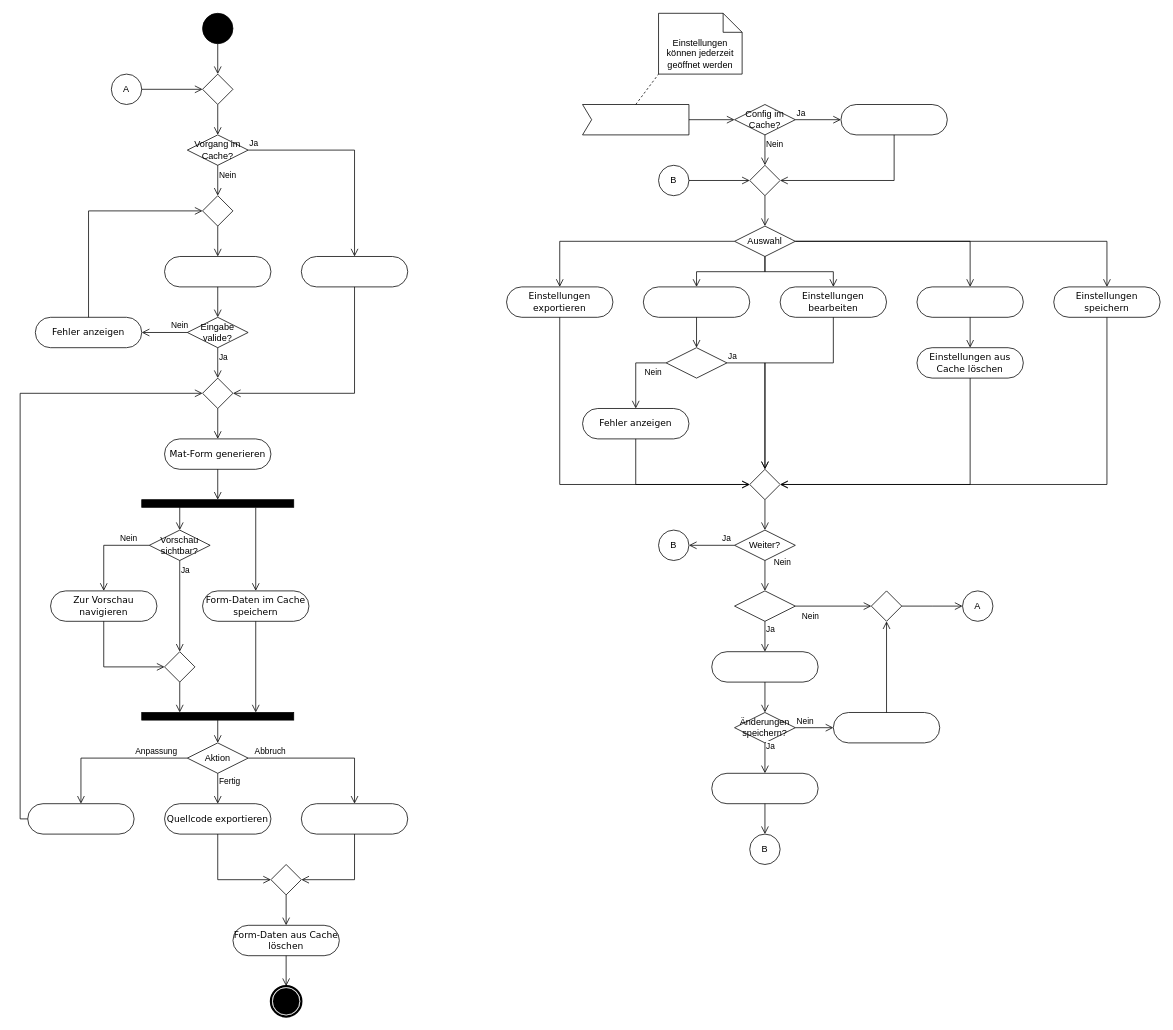
Image size: 1173x1030. Some labels were removed from this diagram. Here are the shapes that lost their labels. From the top down, the centre of each, then its label:
At point 635,119: "In die Einstellungen navigieren".
At point 893,119: "Config aus Cache laden".
At point 217,271: "Eingabe der Formdefinition".
At point 354,271: "FormData aus dem Cache laden".
At point 696,301: "Einstellungen importieren".
At point 969,301: "Einstellungen zurücksetzen".
At point 696,362: "Input valide?".
At point 764,605: "Nicht gespeicherte Änderungen?".
At point 764,666: "Warnung anzeigen".
At point 886,727: "Änderungen verwerfen".
At point 764,788: "Einstellungen im Cache speichern".
At point 80,818: "Form bearbeiten".
At point 354,818: "Vorgang abbrechen".
